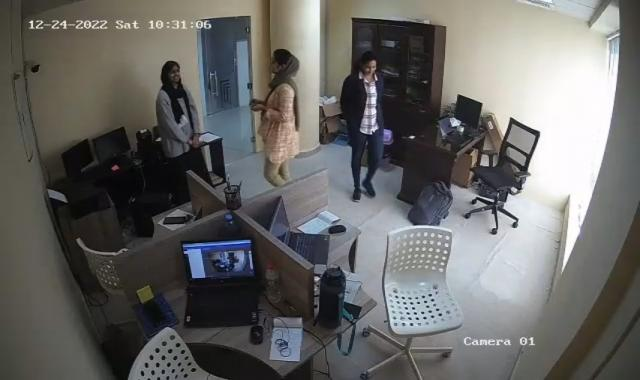no_hairnet: (159, 58, 189, 91), (266, 50, 298, 77), (358, 50, 378, 78)
